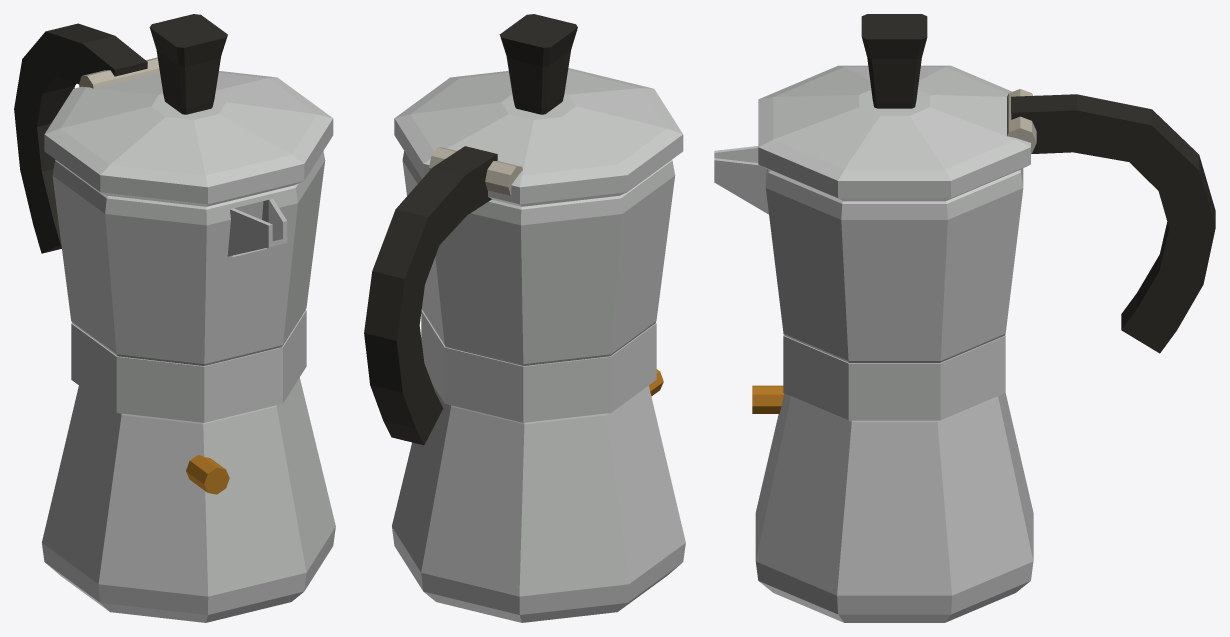
File: SM_Cook_MokaPot_01.fbx
The picture shows the model from 3 angles, left to right: view 1: azimuth 30°, elevation 25°; view 2: azimuth 150°, elevation 25°; view 3: azimuth 270°, elevation 25°; orthographic projection.
Visible parts, largest first — view 1: SM_Cook_MokaPot_01; view 2: SM_Cook_MokaPot_01; view 3: SM_Cook_MokaPot_01.
Part boxes in pixels (bbox=[...]): SM_Cook_MokaPot_01: bbox=[14, 14, 335, 622]; SM_Cook_MokaPot_01: bbox=[364, 14, 685, 622]; SM_Cook_MokaPot_01: bbox=[714, 14, 1215, 622].
Size of the model in its own units: 0.127 by 0.275 by 0.2294.
Materials: 1 (1 with a texture image).
